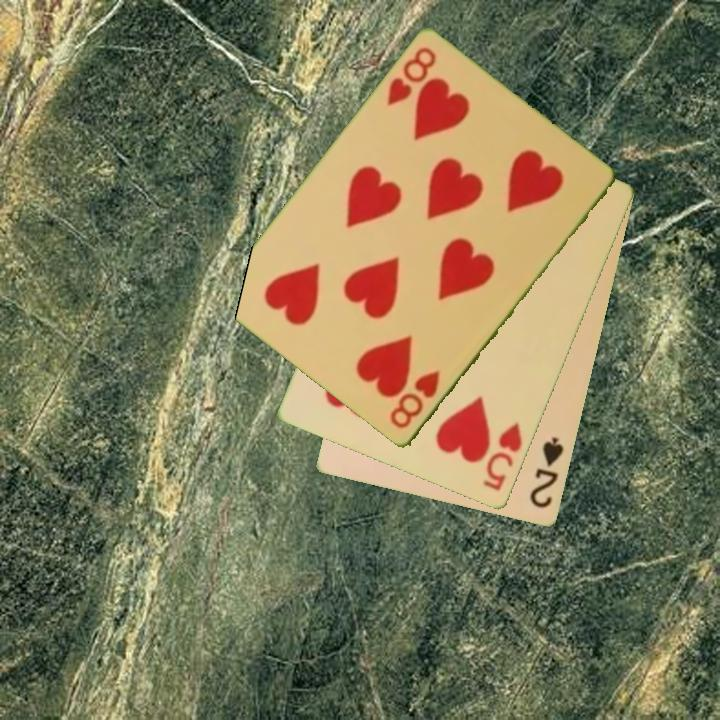2s: (526, 434, 567, 512)
5h: (479, 419, 526, 495)
8h: (386, 367, 443, 432), (383, 44, 439, 109)
